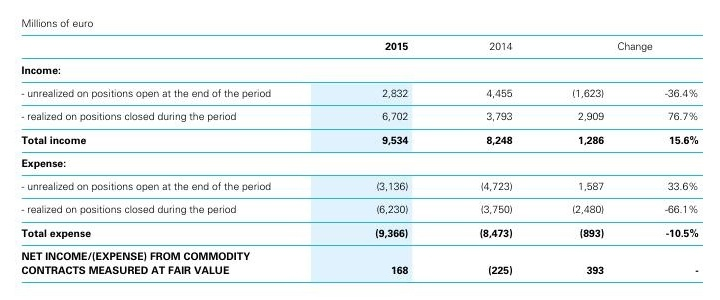table: (0, 0, 720, 300)
